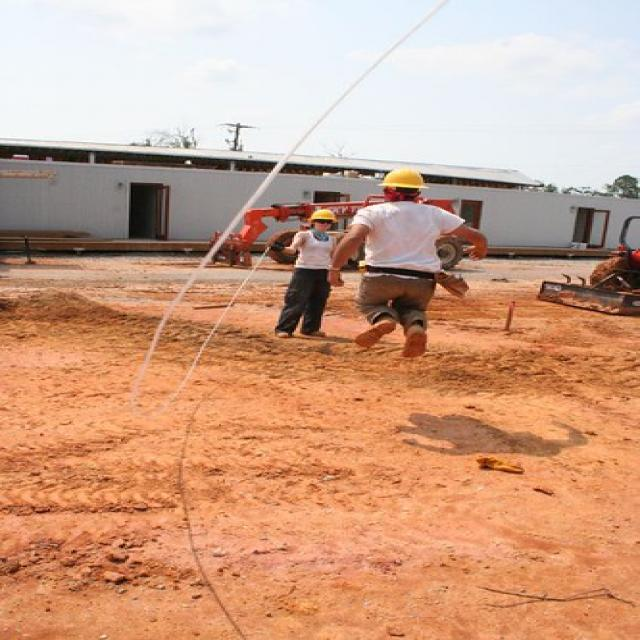Safety-Helmet: (375, 162, 436, 196), (304, 204, 342, 227)
